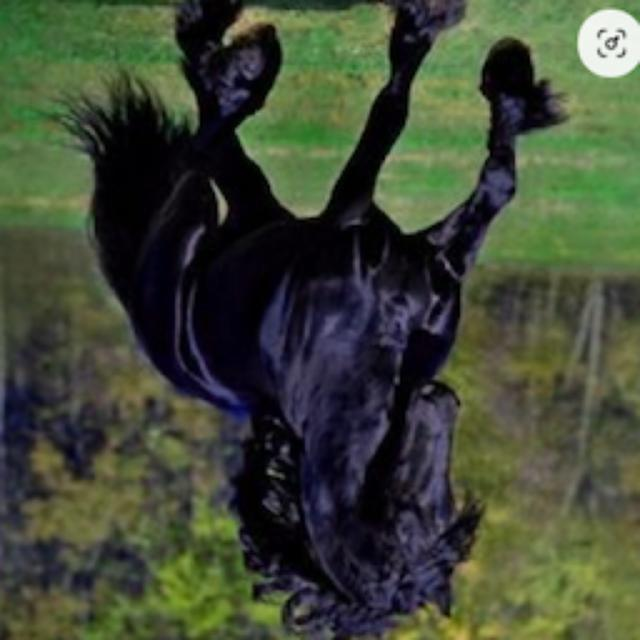Horse: (42, 2, 576, 640)
